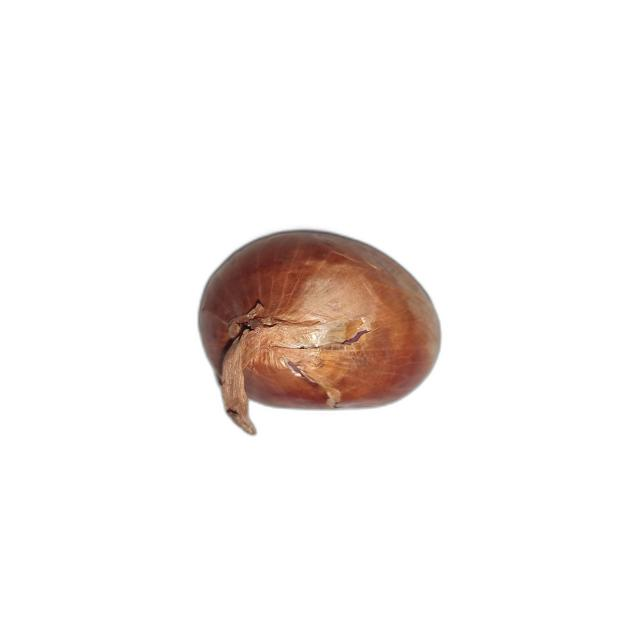onion: (198, 230, 442, 437)
